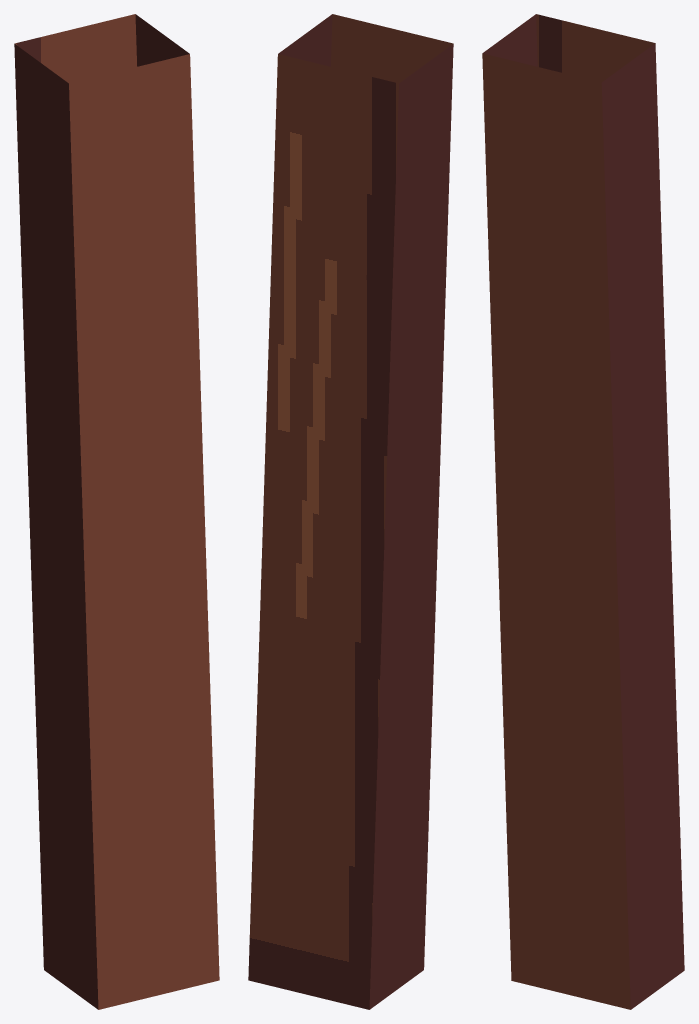
Rendered from StarspireSign - FrontLeg.gltf.
3 views of the same model, side by side, from view 1: azimuth 30°, elevation 25°; view 2: azimuth 150°, elevation 25°; view 3: azimuth 330°, elevation 25° (orthographic).
Visible parts, largest first — view 1: mesh; view 2: mesh; view 3: mesh.
Boxes of the visible parts, x1=… form: mesh: x1=14, y1=14, x2=219, y2=1009; mesh: x1=248, y1=14, x2=453, y2=1009; mesh: x1=482, y1=14, x2=684, y2=1009.
Size of the model in its own units: 1.59 by 9.44 by 1.
1 material, 1 textured.
